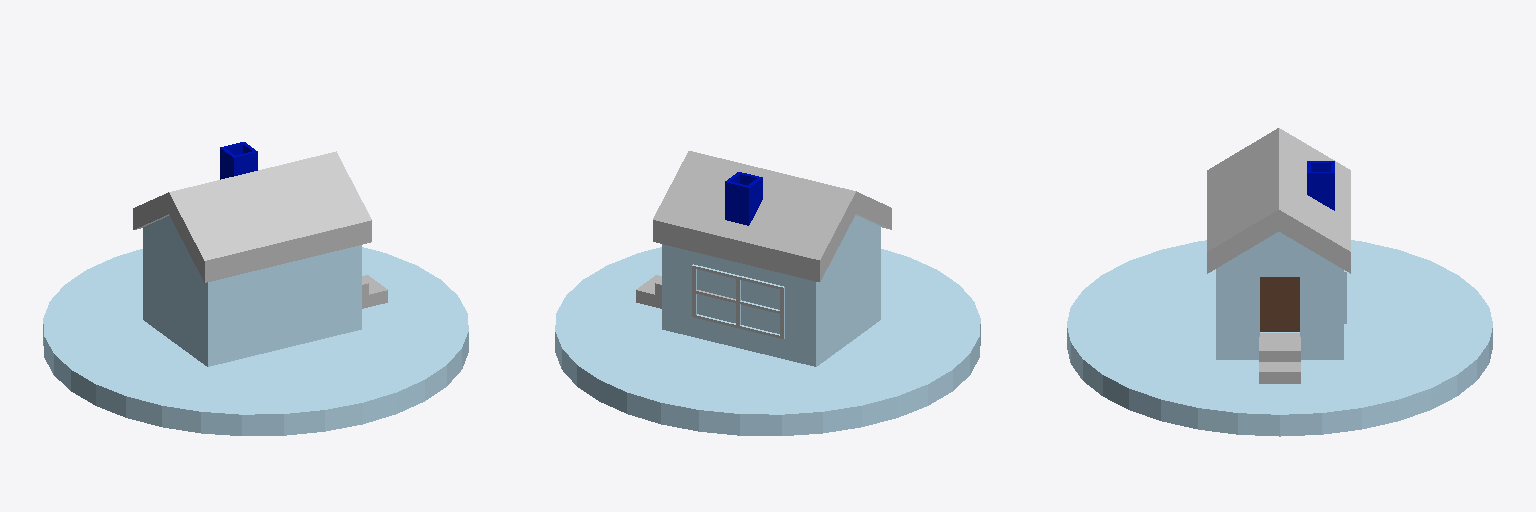
The picture shows the model from 3 angles: view 1: azimuth 30°, elevation 25°; view 2: azimuth 150°, elevation 25°; view 3: azimuth 270°, elevation 25°; orthographic projection.
Parts seen in each view (by area): view 1: 円, 立方体, 立方体.001, 立方体.002; view 2: 円, 立方体, 立方体.001, 立方体.002; view 3: 円, 立方体.001, 立方体, 立方体.003, 立方体.002, 立方体.004.
Boxes of the visible parts, x1,y1,x2,y2 form: 円: [43, 247, 468, 435]; 立方体: [143, 215, 361, 366]; 立方体.001: [133, 151, 371, 282]; 立方体.002: [220, 142, 257, 179]; 円: [555, 247, 980, 435]; 立方体: [662, 215, 880, 366]; 立方体.001: [653, 151, 891, 281]; 立方体.002: [725, 172, 762, 225]; 円: [1067, 240, 1492, 436]; 立方体.001: [1207, 128, 1350, 273]; 立方体: [1216, 232, 1346, 359]; 立方体.003: [1259, 333, 1300, 361]; 立方体.002: [1307, 161, 1334, 210]; 立方体.004: [1259, 362, 1300, 383].
Size of the model in its own units: 6.66 by 3.11 by 6.66.
Materials: 8 (2 with a texture image).